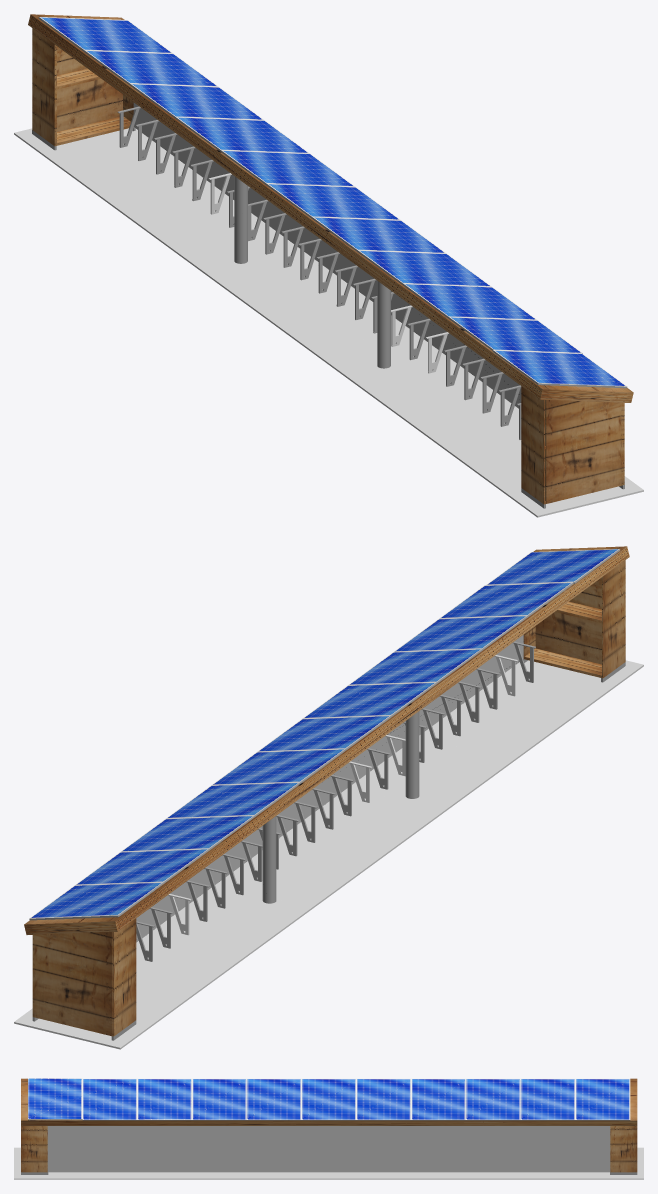
Rendered from trucvelo.gltf.
3 renders of one model, top to bottom at view 1: azimuth 30°, elevation 25°; view 2: azimuth 150°, elevation 25°; view 3: azimuth 270°, elevation 25°, orthographic. The views are drawn at different scales.
Size of the model in its own units: 2.7 by 2.98 by 23.
